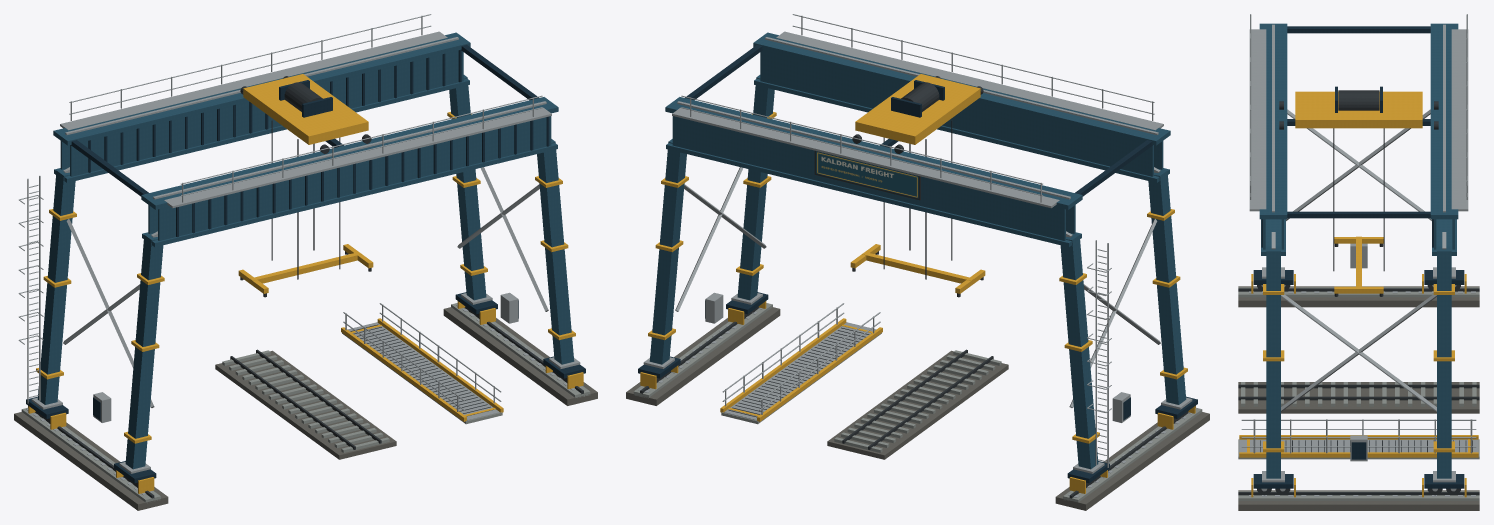
3 renders of one model, left to right at view 1: azimuth 30°, elevation 25°; view 2: azimuth 150°, elevation 25°; view 3: azimuth 270°, elevation 25°, orthographic. The views are drawn at different scales.
Visible parts, largest first — view 1: VIS_MainGirder_BoxWeb__paint_blue, VIS_Structural_BoxLeg__paint_blue, VIS_MainGirder_UpperFlange__paint_blue, VIS_Maintenance_Catwalk__galvanized, VIS_Foundation_Gravel__ballast, VIS_MainGirder_WebRib__paint_steel_shadow, VIS_CargoRail_Ties__concrete, VIS_MainGirder_LowerFlange__paint_blue, VIS_Trolley_Chassis__signal_yellow, VIS_RailBallast__ballast, VIS_ServiceCorridor_GratedDeck__galvanized, VIS_Trolley_Runway__galvanized (+16 smaller); view 2: VIS_MainGirder_BoxWeb__paint_blue, VIS_Structural_BoxLeg__paint_blue, VIS_MainGirder_UpperFlange__paint_blue, VIS_Maintenance_Catwalk__galvanized, VIS_Foundation_Gravel__ballast, VIS_CargoRail_Ties__concrete, VIS_MainGirder_LowerFlange__paint_blue, VIS_Trolley_Chassis__signal_yellow, VIS_RailBallast__ballast, VIS_ServiceCorridor_GratedDeck__galvanized, VIS_Trolley_Runway__galvanized, VIS_Track_Bed__concrete (+16 smaller); view 3: VIS_MainGirder_UpperFlange__paint_blue, VIS_Structural_BoxLeg__paint_blue, VIS_Maintenance_Catwalk__galvanized, VIS_Foundation_Gravel__ballast, VIS_RailBallast__ballast, VIS_Trolley_Chassis__signal_yellow, VIS_Longitudinal_XBracing__galvanized, VIS_Track_Bed__concrete, VIS_CrossGirder_Tie__paint_steel_shadow, VIS_ServiceCorridor_GratedDeck__galvanized, VIS_ServiceCorridor_SafetyCurb__signal_yellow, VIS_CargoRail_1435mm__dark_steel (+23 smaller).
Boxes of the visible parts, x1=… form: VIS_MainGirder_BoxWeb__paint_blue: x1=60, y1=50, x2=551, y2=240; VIS_Structural_BoxLeg__paint_blue: x1=37, y1=75, x2=574, y2=469; VIS_MainGirder_UpperFlange__paint_blue: x1=53, y1=32, x2=558, y2=209; VIS_Maintenance_Catwalk__galvanized: x1=60, y1=31, x2=551, y2=208; VIS_Foundation_Gravel__ballast: x1=14, y1=307, x2=597, y2=510; VIS_MainGirder_WebRib__paint_steel_shadow: x1=88, y1=50, x2=549, y2=236; VIS_CargoRail_Ties__concrete: x1=222, y1=350, x2=389, y2=452; VIS_MainGirder_LowerFlange__paint_blue: x1=54, y1=78, x2=557, y2=247; VIS_Trolley_Chassis__signal_yellow: x1=243, y1=74, x2=368, y2=144; VIS_RailBallast__ballast: x1=215, y1=350, x2=396, y2=459; VIS_ServiceCorridor_GratedDeck__galvanized: x1=347, y1=322, x2=499, y2=420; VIS_Trolley_Runway__galvanized: x1=65, y1=37, x2=546, y2=199; VIS_MainGirder_BoxWeb__paint_blue: x1=672, y1=50, x2=1163, y2=240; VIS_Structural_BoxLeg__paint_blue: x1=649, y1=75, x2=1186, y2=469; VIS_MainGirder_UpperFlange__paint_blue: x1=665, y1=32, x2=1170, y2=209; VIS_Maintenance_Catwalk__galvanized: x1=672, y1=31, x2=1163, y2=208; VIS_Foundation_Gravel__ballast: x1=626, y1=307, x2=1209, y2=510; VIS_CargoRail_Ties__concrete: x1=834, y1=350, x2=1001, y2=452; VIS_MainGirder_LowerFlange__paint_blue: x1=666, y1=78, x2=1169, y2=247; VIS_Trolley_Chassis__signal_yellow: x1=855, y1=74, x2=980, y2=144; VIS_RailBallast__ballast: x1=827, y1=350, x2=1008, y2=459; VIS_ServiceCorridor_GratedDeck__galvanized: x1=724, y1=322, x2=876, y2=420; VIS_Trolley_Runway__galvanized: x1=677, y1=37, x2=1158, y2=199; VIS_Track_Bed__concrete: x1=633, y1=303, x2=1202, y2=502; VIS_MainGirder_UpperFlange__paint_blue: x1=1259, y1=23, x2=1458, y2=219; VIS_Structural_BoxLeg__paint_blue: x1=1266, y1=246, x2=1451, y2=478; VIS_Maintenance_Catwalk__galvanized: x1=1249, y1=29, x2=1468, y2=211; VIS_Foundation_Gravel__ballast: x1=1238, y1=286, x2=1479, y2=510; VIS_RailBallast__ballast: x1=1238, y1=382, x2=1479, y2=413; VIS_Trolley_Chassis__signal_yellow: x1=1295, y1=91, x2=1422, y2=128; VIS_Longitudinal_XBracing__galvanized: x1=1281, y1=109, x2=1436, y2=411; VIS_Track_Bed__concrete: x1=1238, y1=287, x2=1479, y2=500; VIS_CrossGirder_Tie__paint_steel_shadow: x1=1287, y1=26, x2=1430, y2=218; VIS_ServiceCorridor_GratedDeck__galvanized: x1=1239, y1=439, x2=1478, y2=452; VIS_ServiceCorridor_SafetyCurb__signal_yellow: x1=1239, y1=435, x2=1478, y2=457; VIS_CargoRail_1435mm__dark_steel: x1=1238, y1=384, x2=1479, y2=400.
Size of the model in its own units: 26.14 by 17.05 by 12.
9 materials, 9 textured.
